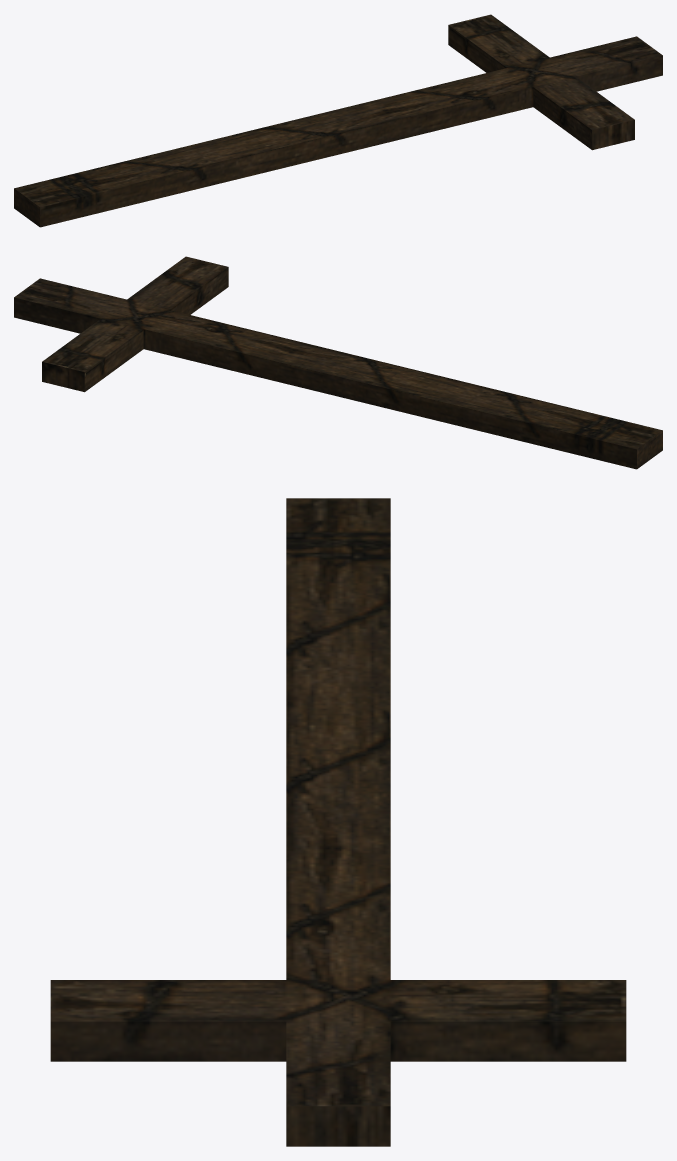
The model's file is melee_cross_mx_1.dae.
The picture shows the model from 3 angles, top to bottom: view 1: azimuth 30°, elevation 25°; view 2: azimuth 150°, elevation 25°; view 3: azimuth 270°, elevation 25°; orthographic projection. The views are drawn at different scales.
Visible parts, largest first — view 1: melee_cross_mx_1; view 2: melee_cross_mx_1; view 3: melee_cross_mx_1.
Boxes of the visible parts, x1,y1,x2,y2 form: melee_cross_mx_1: (14,14,662,227); melee_cross_mx_1: (14,256,662,469); melee_cross_mx_1: (50,498,626,1146).
Size of the model in its own units: 0.91 by 0.364 by 0.028.
Materials: 1 (1 with a texture image).
